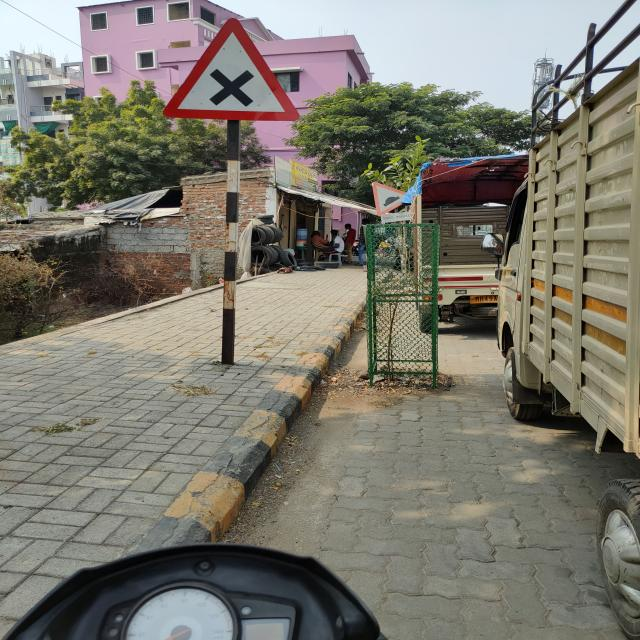CROSS_ROAD: (159, 16, 305, 129)
